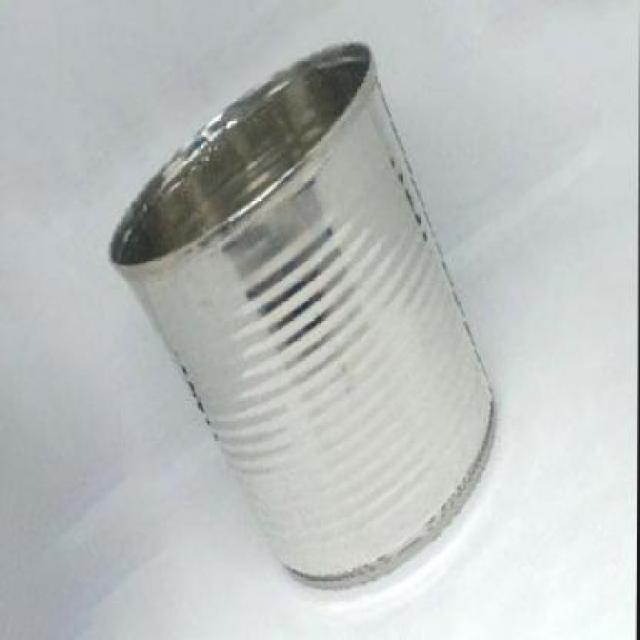Metal: (99, 32, 502, 595)
